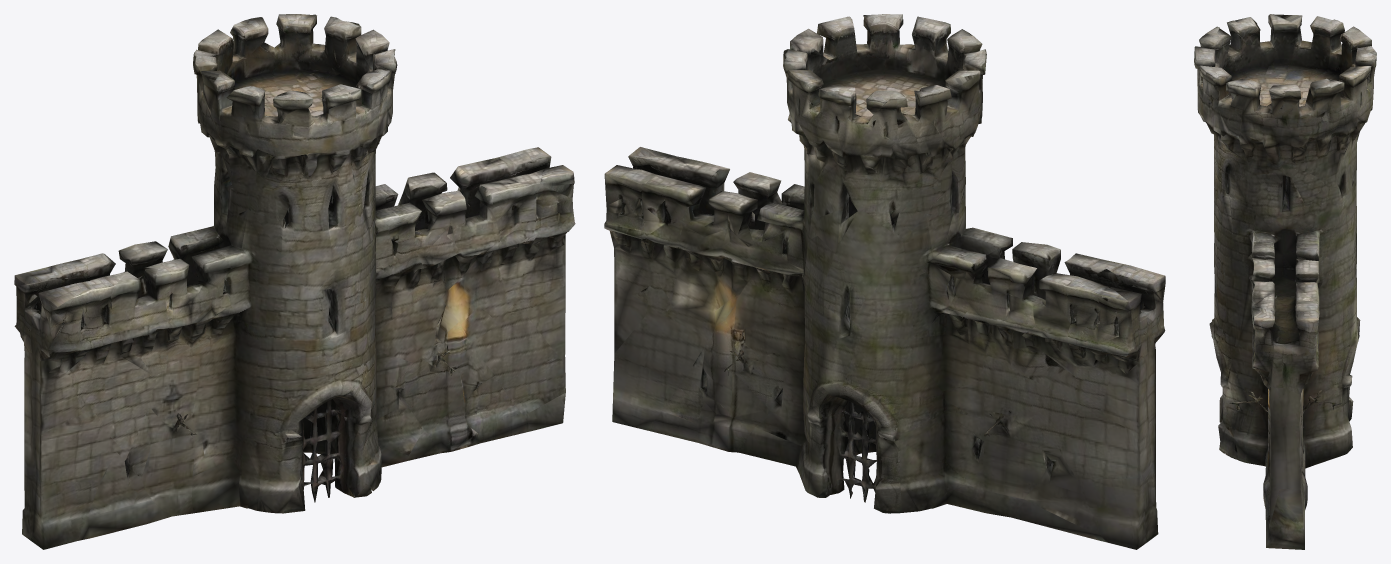
The model's file is gt_castle.glb.
3 views of the same model, side by side, from view 1: azimuth 30°, elevation 25°; view 2: azimuth 150°, elevation 25°; view 3: azimuth 270°, elevation 25° (orthographic). The views are drawn at different scales.
Visible parts, largest first — view 1: gt_castle; view 2: gt_castle; view 3: gt_castle.
Boxes of the visible parts, left/top/right/bottom form: gt_castle: left=14, top=14, right=575, bottom=549; gt_castle: left=604, top=14, right=1165, bottom=549; gt_castle: left=1194, top=14, right=1376, bottom=549.
Bounding box in the file's own units: 1.9 × 1.47 × 0.6336.
Materials: 1 (1 with a texture image).
